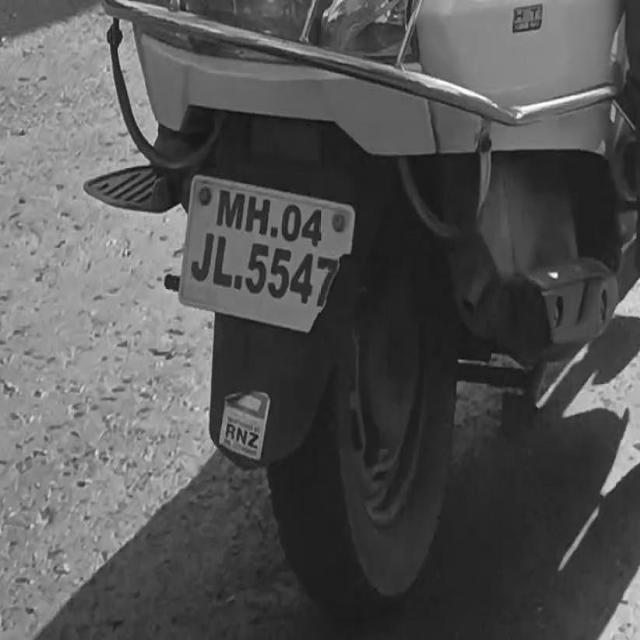license-plate: (188, 169, 356, 329)
